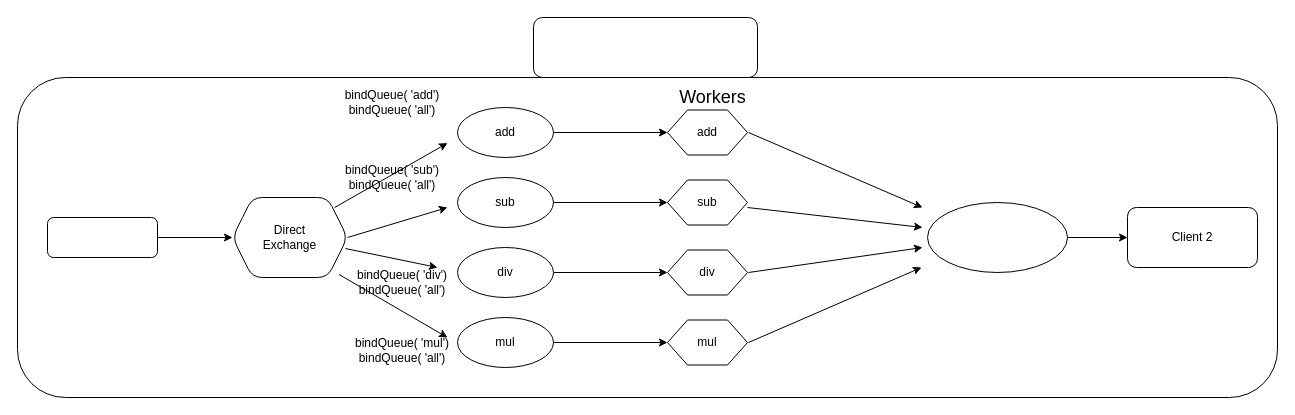
The diagram is 1295 pixels wide and 415 high, and some of its shapes have lost their labels. Each missing label, with the box of its shape:
Architecture: (532, 16, 758, 78)
Client 1: (46, 216, 158, 258)
queue_result: (926, 202, 1068, 272)
